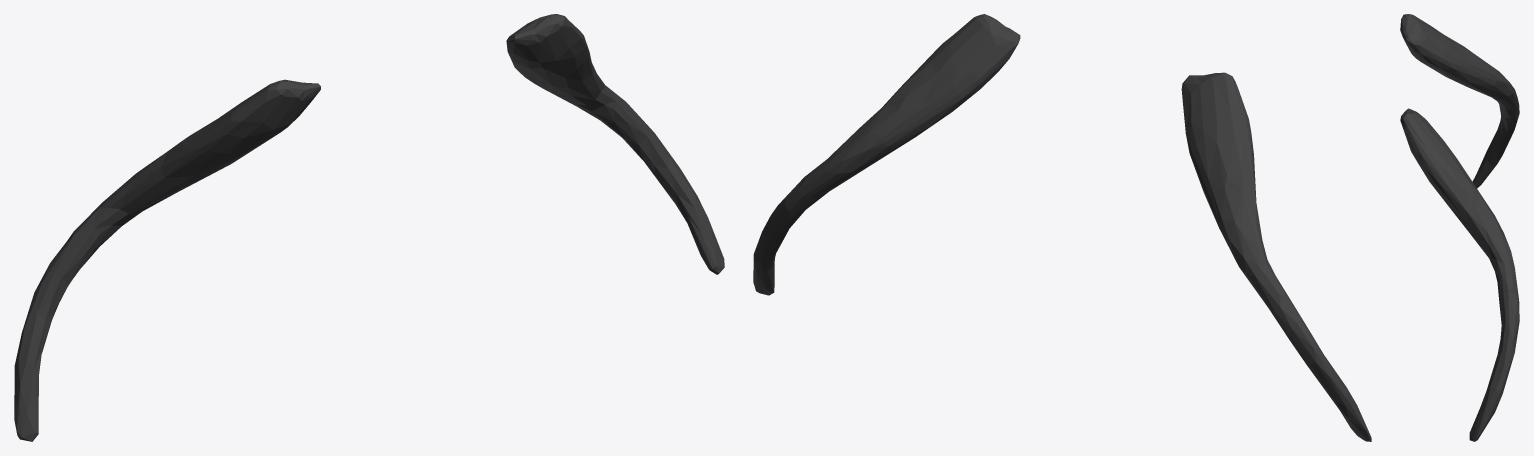
File: m_pectineus.glb
3 renders of one model, left to right at view 1: azimuth 30°, elevation 25°; view 2: azimuth 150°, elevation 25°; view 3: azimuth 270°, elevation 25°, orthographic. The views are drawn at different scales.
Parts seen in each view (by area): view 1: m_pectineus; view 2: m_pectineus; view 3: m_pectineus.
Boxes of the visible parts, x1,y1,x2,y2 form: m_pectineus: (14,14,724,441); m_pectineus: (753,14,1371,441); m_pectineus: (1400,14,1519,441).
Bounding box in the file's own units: 0.00577 × 0.00266 × 0.00114.
1 material, 1 textured.
